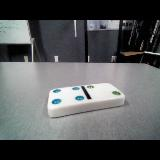domino: (48, 84, 124, 117)
